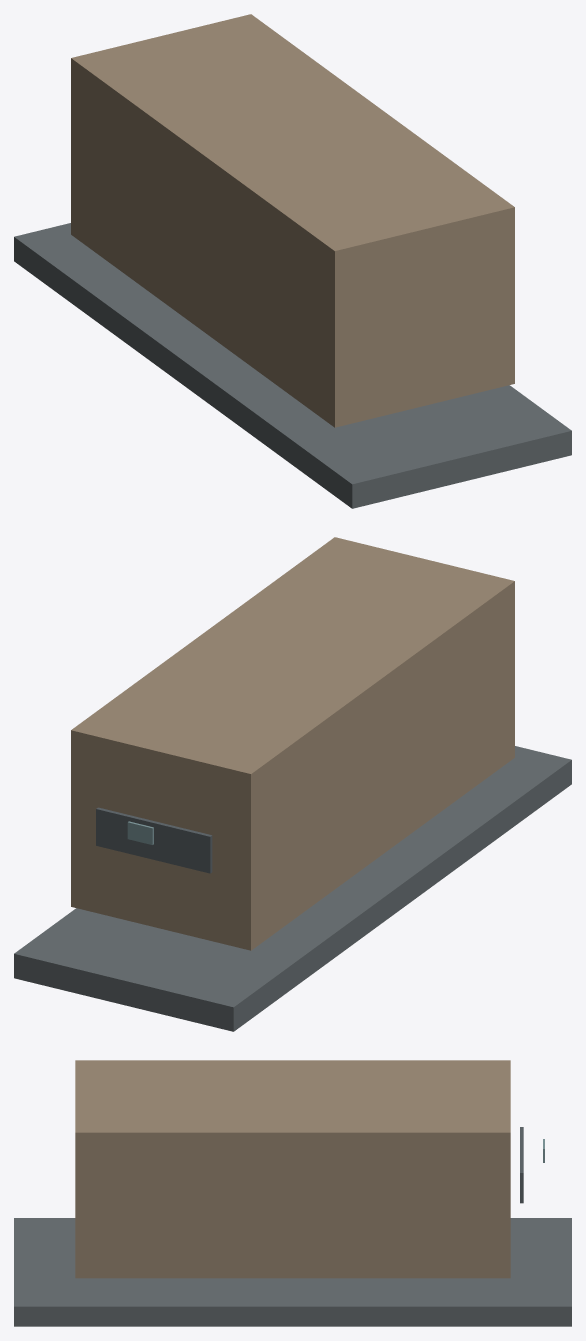
Rendered from iz3_school_hall_02.glb.
3 views of the same model, one above another, from view 1: azimuth 30°, elevation 25°; view 2: azimuth 150°, elevation 25°; view 3: azimuth 270°, elevation 25° (orthographic). The views are drawn at different scales.
Parts seen in each view (by area): view 1: cabinet, base; view 2: cabinet, base, panel; view 3: cabinet, base.
Boxes of the visible parts, bbox=[...] form: cabinet: bbox=[71, 14, 514, 427]; base: bbox=[14, 223, 571, 508]; cabinet: bbox=[71, 537, 514, 950]; base: bbox=[14, 746, 571, 1031]; panel: bbox=[96, 807, 212, 873]; cabinet: bbox=[75, 1060, 510, 1278]; base: bbox=[14, 1218, 571, 1326].
Bounding box in the file's own units: 3 × 2.94 × 8.
